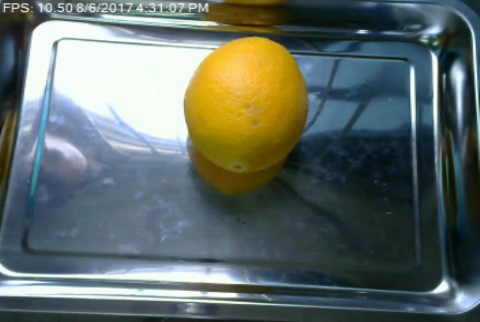Orange: (183, 34, 310, 173)
